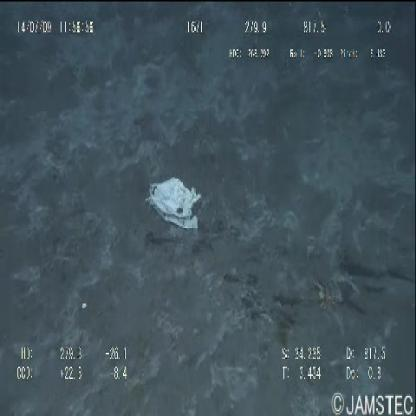Rác: (147, 179, 201, 230)
